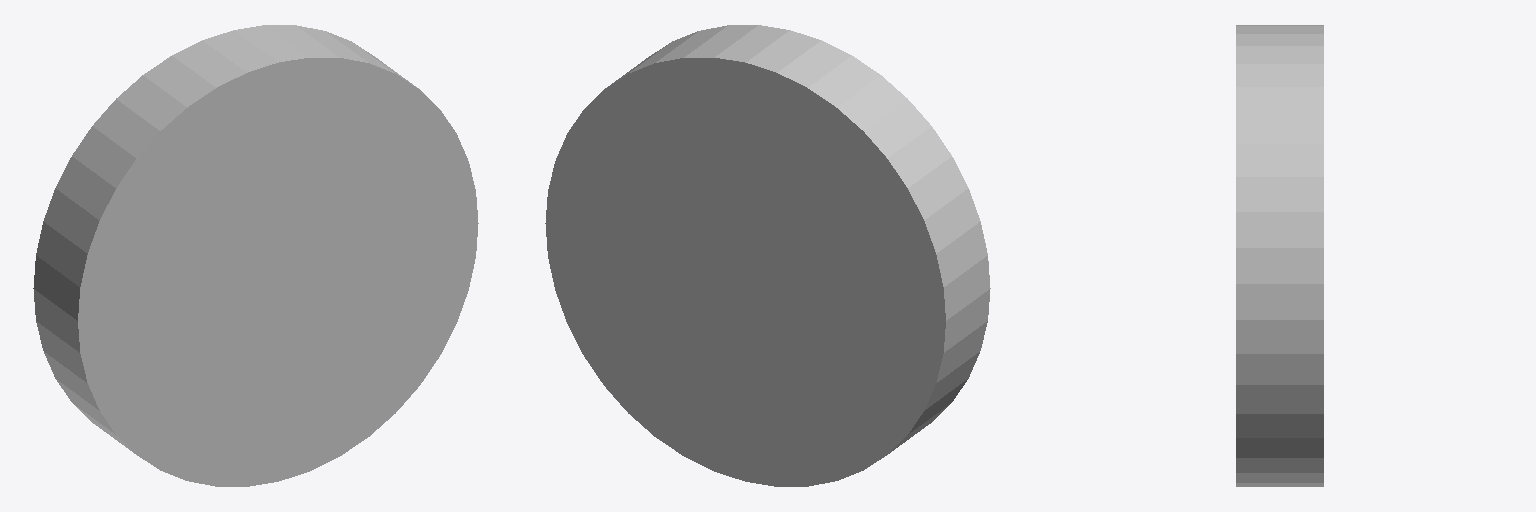
The model's file is button.obj.
The picture shows the model from 3 angles: view 1: azimuth 30°, elevation 25°; view 2: azimuth 150°, elevation 25°; view 3: azimuth 270°, elevation 25°; orthographic projection.
Parts seen in each view (by area): view 1: pCylinder1; view 2: pCylinder1; view 3: pCylinder1.
Boxes of the visible parts, x1=… form: pCylinder1: x1=33, y1=25, x2=478, y2=486; pCylinder1: x1=545, y1=25, x2=990, y2=486; pCylinder1: x1=1236, y1=25, x2=1323, y2=486.
Bounding box in the file's own units: 0.7479 × 0.7479 × 0.1436.